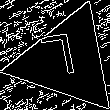L_S: (46, 33, 87, 88)
